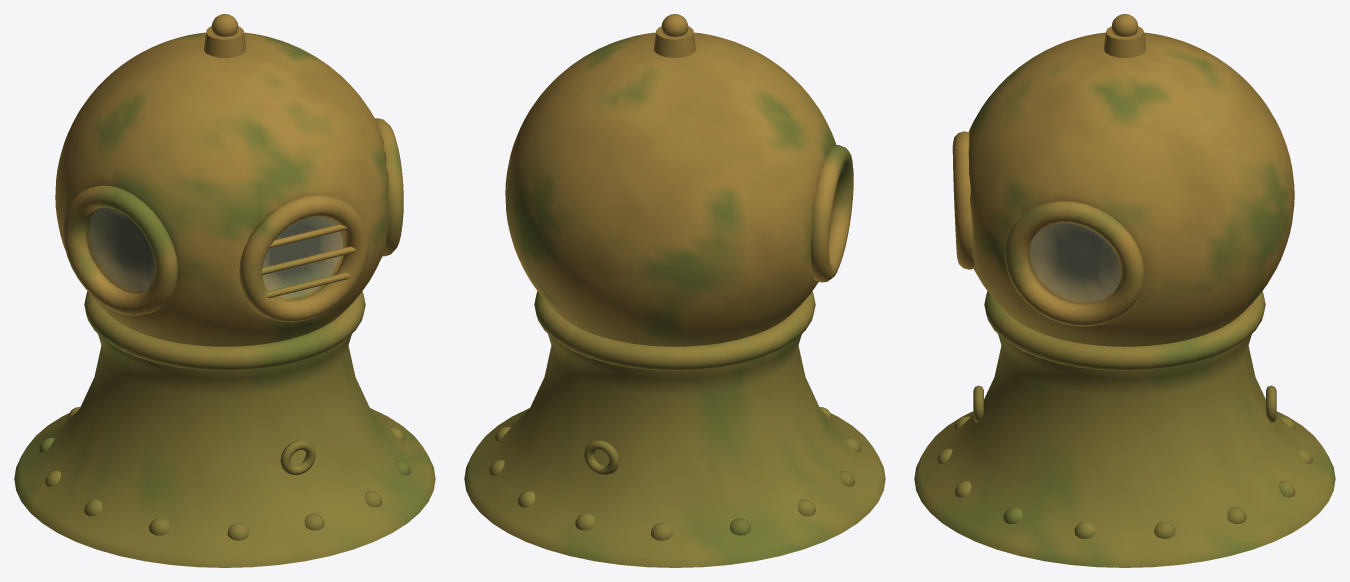
File: diver-helmet.glb
3 views of the same model, side by side, from view 1: azimuth 30°, elevation 25°; view 2: azimuth 150°, elevation 25°; view 3: azimuth 270°, elevation 25° (orthographic).
Visible parts, largest first — view 1: bonnet, corselet, brass-fittings, porthole-glass; view 2: bonnet, corselet, brass-fittings; view 3: bonnet, corselet, brass-fittings, porthole-glass.
Boxes of the visible parts, x1=… form: bonnet: x1=55, y1=32, x2=388, y2=346; corselet: x1=14, y1=333, x2=435, y2=567; brass-fittings: x1=39, y1=14, x2=410, y2=540; porthole-glass: x1=90, y1=208, x2=342, y2=297; bonnet: x1=505, y1=32, x2=836, y2=346; corselet: x1=464, y1=333, x2=885, y2=567; brass-fittings: x1=489, y1=14, x2=860, y2=540; bonnet: x1=968, y1=32, x2=1294, y2=346; corselet: x1=914, y1=333, x2=1335, y2=567; brass-fittings: x1=937, y1=14, x2=1312, y2=538; porthole-glass: x1=1030, y1=223, x2=1120, y2=301.
Size of the model in its own units: 140 by 170 by 140.
